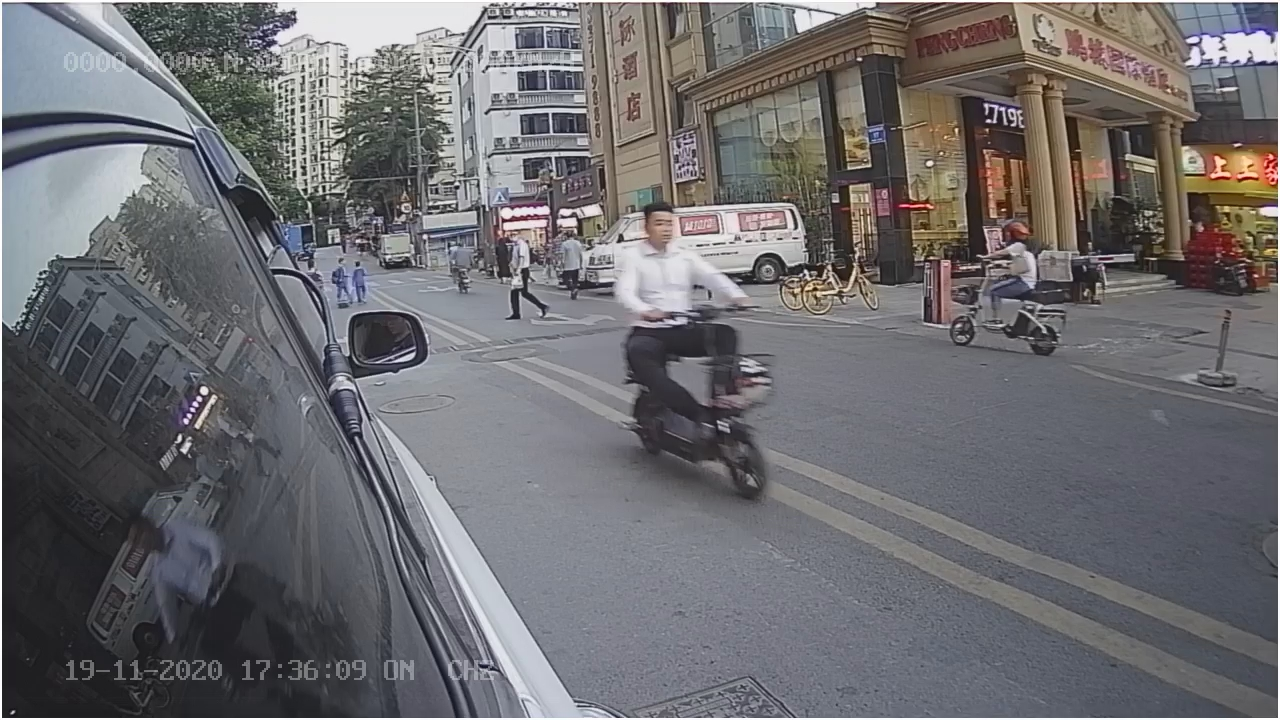person: (611, 194, 715, 303)
